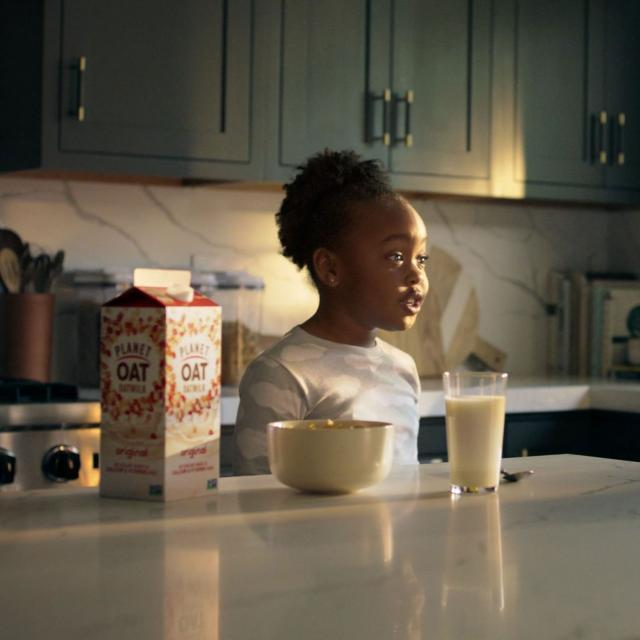Planet Oat Original: (87, 257, 236, 522)
